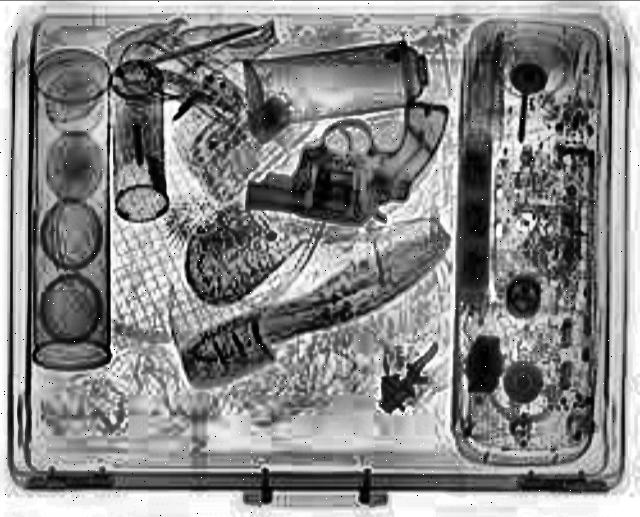Gun: (247, 102, 456, 232)
